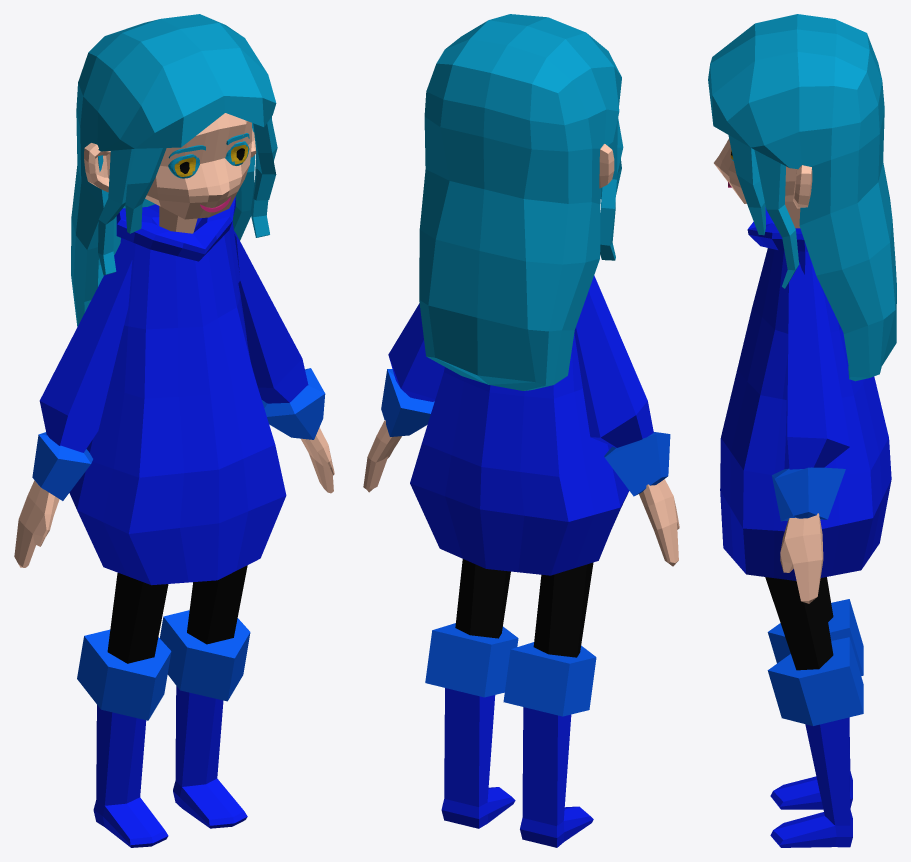
The model's file is cilvecins.obj.
The picture shows the model from 3 angles, left to right: view 1: azimuth 30°, elevation 25°; view 2: azimuth 150°, elevation 25°; view 3: azimuth 270°, elevation 25°; orthographic projection.
Visible parts, largest first — view 1: Cube, Cube.003, Cylinder.006, Cylinder.008, Cylinder, Cylinder.007, Cube.001, Cylinder.005, Cylinder.001, Cube.002, Cylinder.002; view 2: Cube.003, Cube, Cylinder.008, Cylinder.006, Cylinder, Cylinder.007, Cylinder.005, Cylinder.001; view 3: Cube.003, Cube, Cylinder.006, Cylinder, Cylinder.008, Cylinder.007, Cylinder.005, Cylinder.001, Cube.001, Cube.002.
Boxes of the visible parts, bbox=[...] form: Cube: bbox=[69, 196, 286, 585]; Cube.003: bbox=[71, 14, 277, 326]; Cylinder.006: bbox=[39, 227, 308, 452]; Cylinder.008: bbox=[93, 686, 247, 847]; Cylinder: bbox=[77, 610, 250, 720]; Cylinder.007: bbox=[107, 565, 247, 663]; Cube.001: bbox=[145, 113, 251, 219]; Cylinder.005: bbox=[32, 368, 325, 500]; Cylinder.001: bbox=[14, 427, 334, 567]; Cube.002: bbox=[84, 128, 256, 192]; Cylinder.002: bbox=[159, 206, 197, 233]; Cube.003: bbox=[419, 14, 623, 390]; Cube: bbox=[410, 334, 629, 575]; Cylinder.008: bbox=[441, 688, 593, 847]; Cylinder.006: bbox=[388, 275, 653, 447]; Cylinder: bbox=[425, 623, 596, 716]; Cylinder.007: bbox=[455, 559, 593, 657]; Cylinder.005: bbox=[381, 369, 670, 496]; Cylinder.001: bbox=[363, 420, 679, 566]; Cube.003: bbox=[708, 14, 896, 381]; Cube: bbox=[720, 207, 891, 580]; Cylinder.006: bbox=[784, 259, 849, 469]; Cylinder: bbox=[767, 599, 863, 725]; Cylinder.008: bbox=[770, 717, 852, 847]; Cylinder.007: bbox=[765, 577, 833, 670]; Cylinder.005: bbox=[772, 467, 845, 521]; Cylinder.001: bbox=[780, 513, 823, 603]; Cube.001: bbox=[714, 139, 796, 203]; Cube.002: bbox=[793, 165, 812, 208].
Size of the model in its own units: 1.54 by 3.76 by 0.8146.
